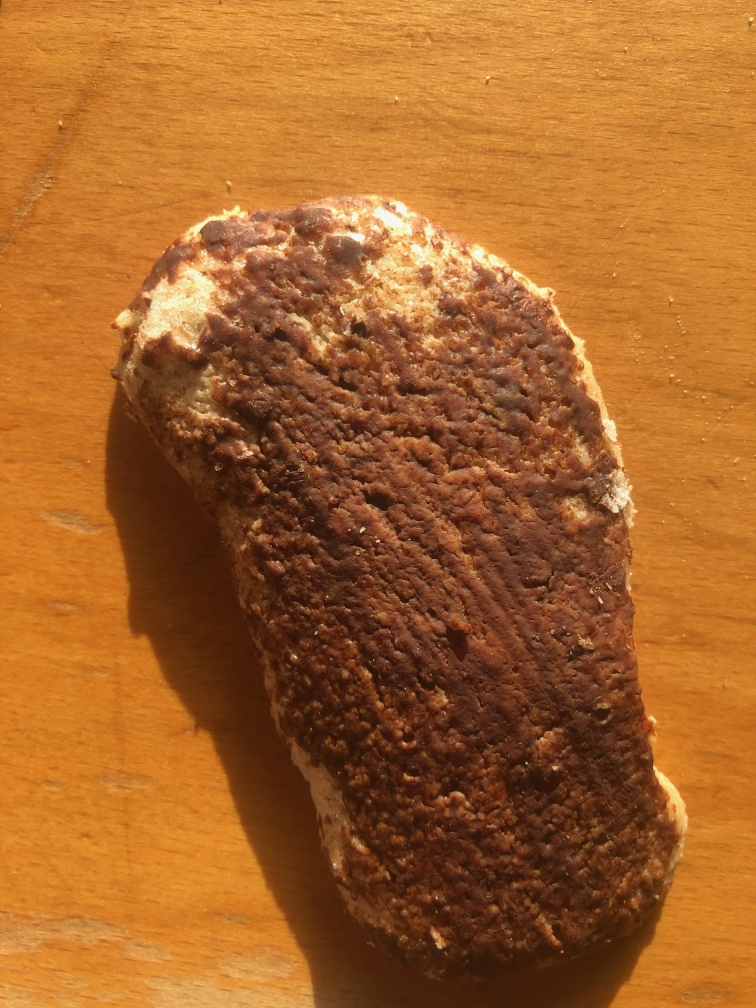weird #1: (96, 184, 691, 1008)
